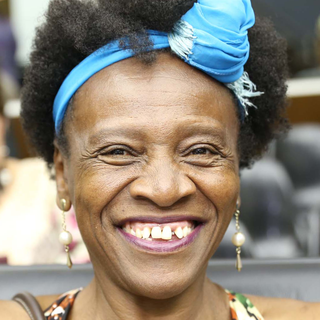eye: (95, 142, 145, 166), (178, 141, 225, 165)
